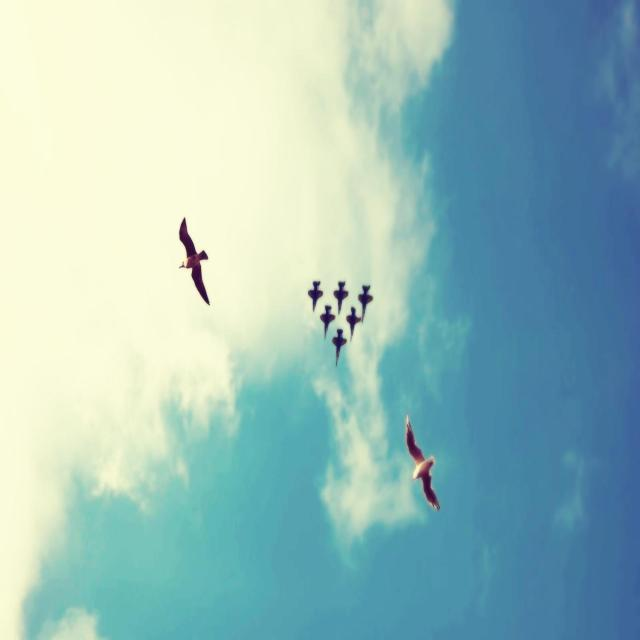airplane: (331, 323, 347, 367), (319, 303, 336, 342), (306, 278, 324, 313), (358, 282, 373, 324), (332, 280, 349, 314), (346, 306, 361, 342)
